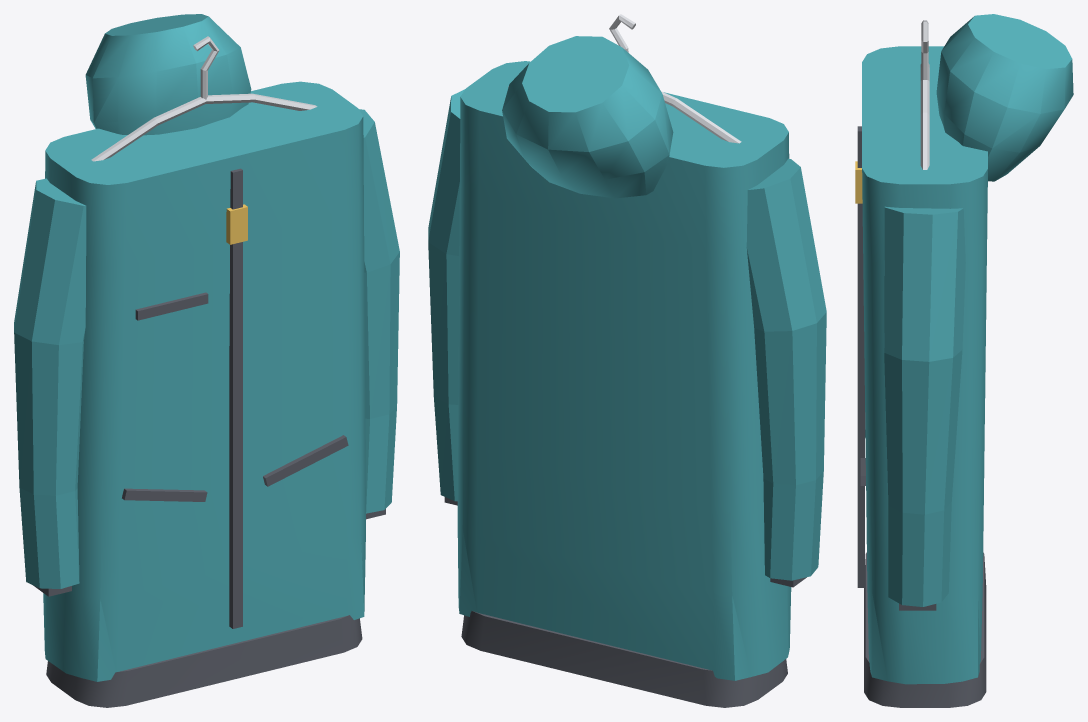
The model's file is snowboard-gear-and-freestyle-riders-shell-jacket-on-ha-3db983b4__27161.glb.
The picture shows the model from 3 angles, left to right: view 1: azimuth 30°, elevation 25°; view 2: azimuth 150°, elevation 25°; view 3: azimuth 270°, elevation 25°; orthographic projection. The views are drawn at different scales.
Visible parts, largest first — view 1: shell-jacket-on-hanger; view 2: shell-jacket-on-hanger; view 3: shell-jacket-on-hanger.
Part boxes in pixels (<box>): shell-jacket-on-hanger: <box>14,14,399,707</box>; shell-jacket-on-hanger: <box>428,14,826,707</box>; shell-jacket-on-hanger: <box>855,14,1073,707</box>.
Size of the model in its own units: 0.5867 by 0.9221 by 0.2944.
